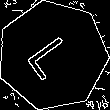L_NE: (23, 28, 82, 83)
